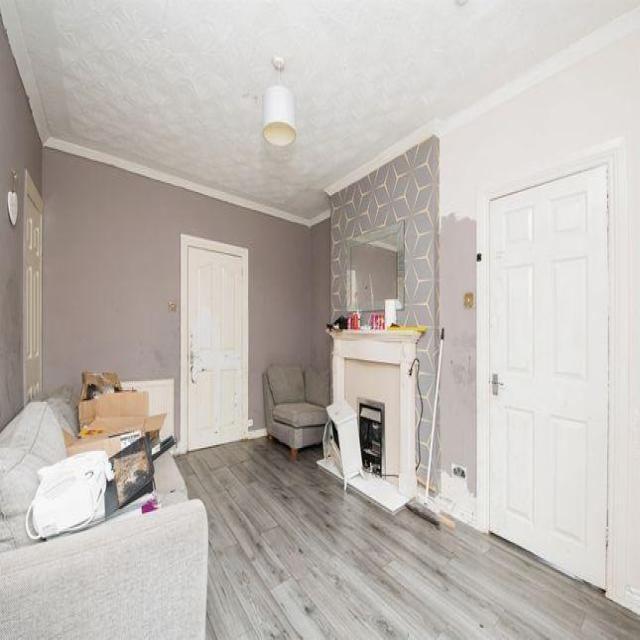Wall: (0, 21, 330, 430), (440, 28, 640, 600), (178, 439, 640, 639), (240, 1, 640, 188), (14, 1, 348, 217), (330, 137, 440, 477), (431, 420, 438, 490)
